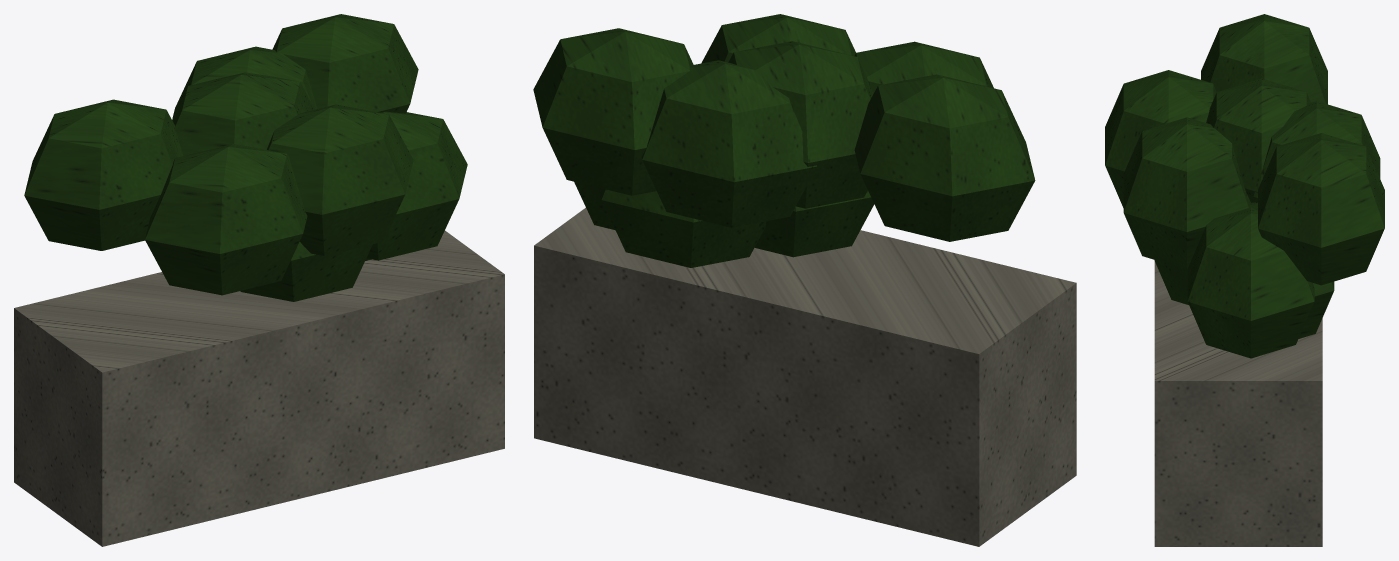
The model's file is PROP-D9B4A3B9AFC2_lod2.glb.
3 views of the same model, side by side, from view 1: azimuth 30°, elevation 25°; view 2: azimuth 150°, elevation 25°; view 3: azimuth 270°, elevation 25° (orthographic). The views are drawn at different scales.
Parts seen in each view (by area): view 1: planter.001, foliage.001; view 2: planter.001, foliage.001; view 3: foliage.001, planter.001.
Part boxes in pixels (x1,y1,x2,y2): planter.001: [14, 230, 504, 546]; foliage.001: [24, 14, 467, 301]; planter.001: [534, 208, 1076, 546]; foliage.001: [533, 14, 1035, 267]; foliage.001: [1105, 14, 1384, 358]; planter.001: [1154, 261, 1322, 546].
Size of the model in its own units: 1.57 by 1.33 by 0.9163.
Materials: 2 (2 with a texture image).
